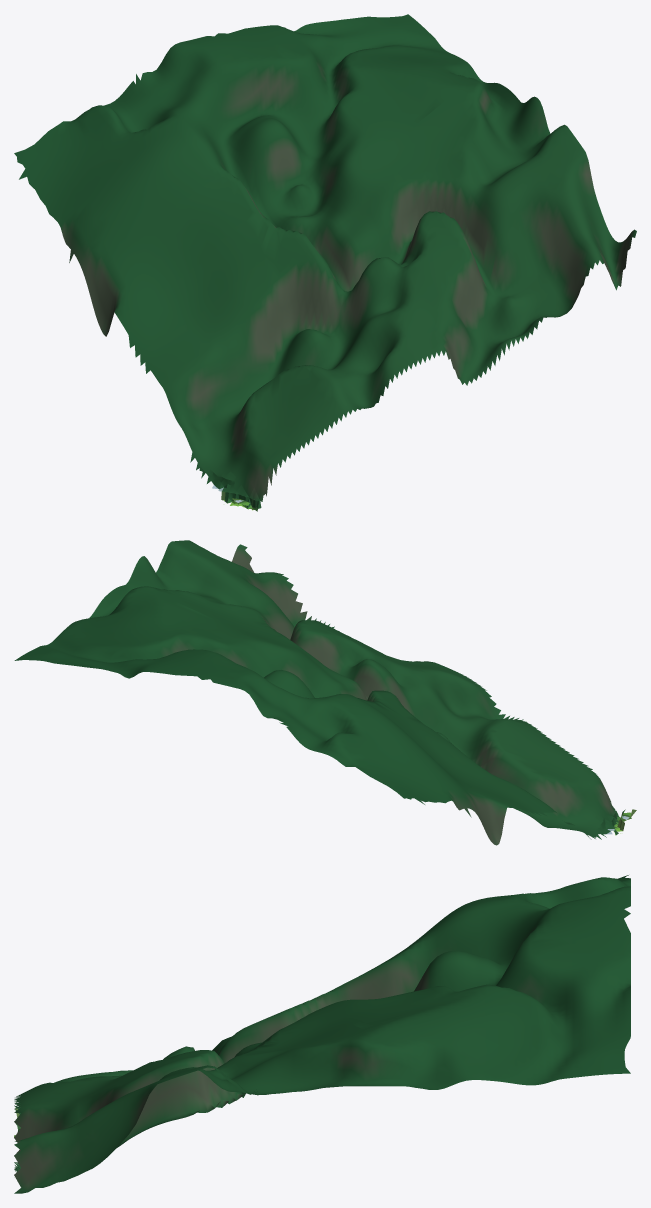
File: payo_land_xm3_y4.glb
3 renders of one model, top to bottom at view 1: azimuth 30°, elevation 25°; view 2: azimuth 150°, elevation 25°; view 3: azimuth 270°, elevation 25°, orthographic. The views are drawn at different scales.
Visible parts, largest first — view 1: payo_land_xm3_y4; view 2: payo_land_xm3_y4; view 3: payo_land_xm3_y4.
Part boxes in pixels (x1,y1,x2,y2): payo_land_xm3_y4: (14, 14, 636, 511); payo_land_xm3_y4: (14, 540, 636, 845); payo_land_xm3_y4: (14, 875, 630, 1193).
Size of the model in its own units: 259 by 162 by 261.
